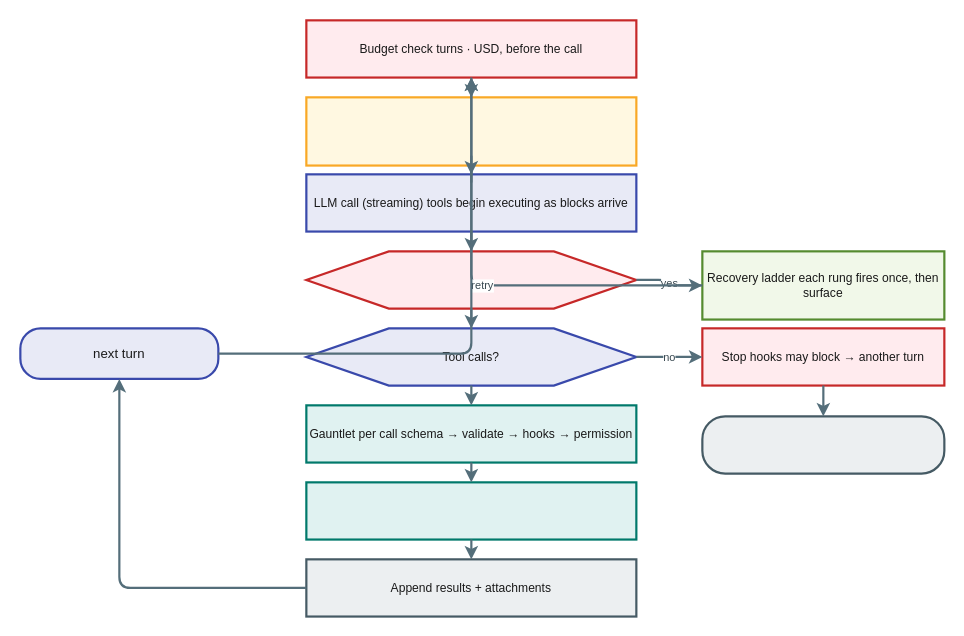
This 964x636 diagram has some shape labels left out. Each missing label, with the box of its shape:
Context ladder result budget → snip → microcompact → collapse → autocompact: (305, 96, 637, 166)
Execute · verify · cap results: (305, 481, 637, 540)
Stop.COMPLETED + 9 other named exits: (701, 415, 945, 474)
Typed error? context_too_long · output_truncated: (305, 250, 637, 309)
